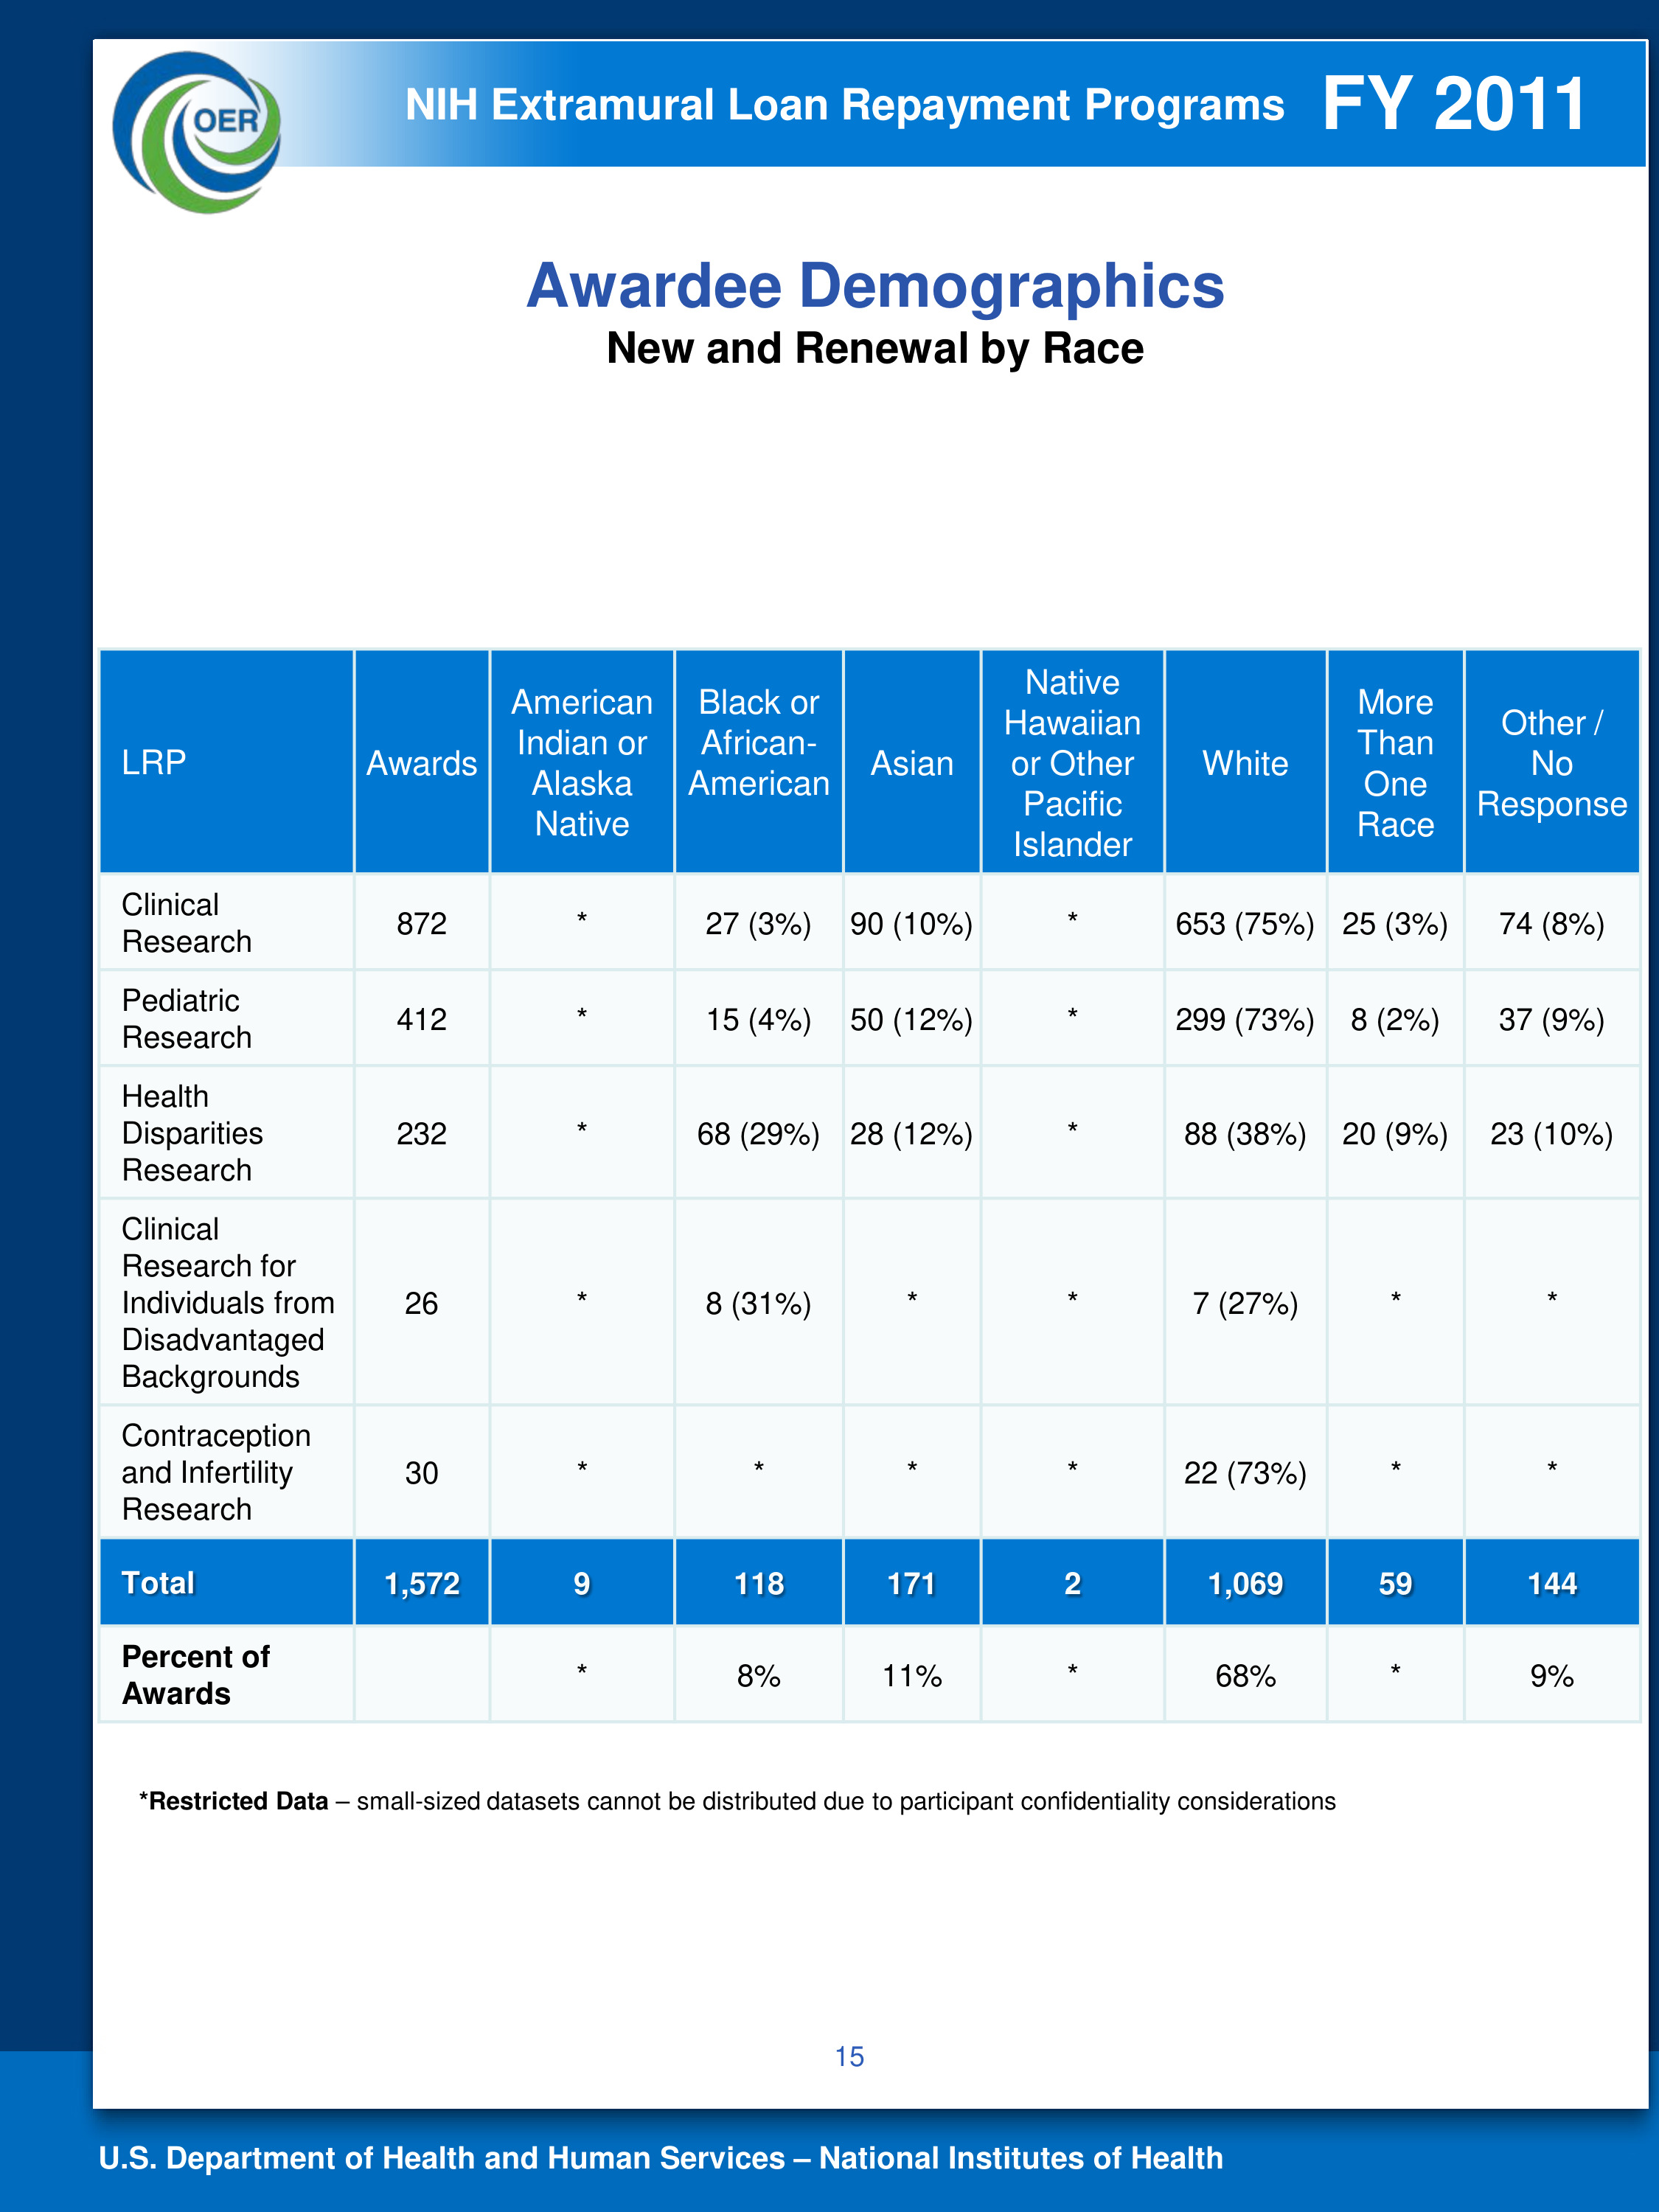table: (120, 657, 1628, 1712)
